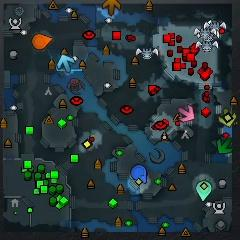p1: (131, 165, 147, 185)
p2: (196, 181, 212, 202)
p5: (32, 33, 53, 50)
x1: (178, 105, 195, 123)
x2: (218, 108, 237, 127)
x3: (57, 55, 75, 73)
x4: (217, 137, 233, 154)
x5: (102, 0, 121, 15)
